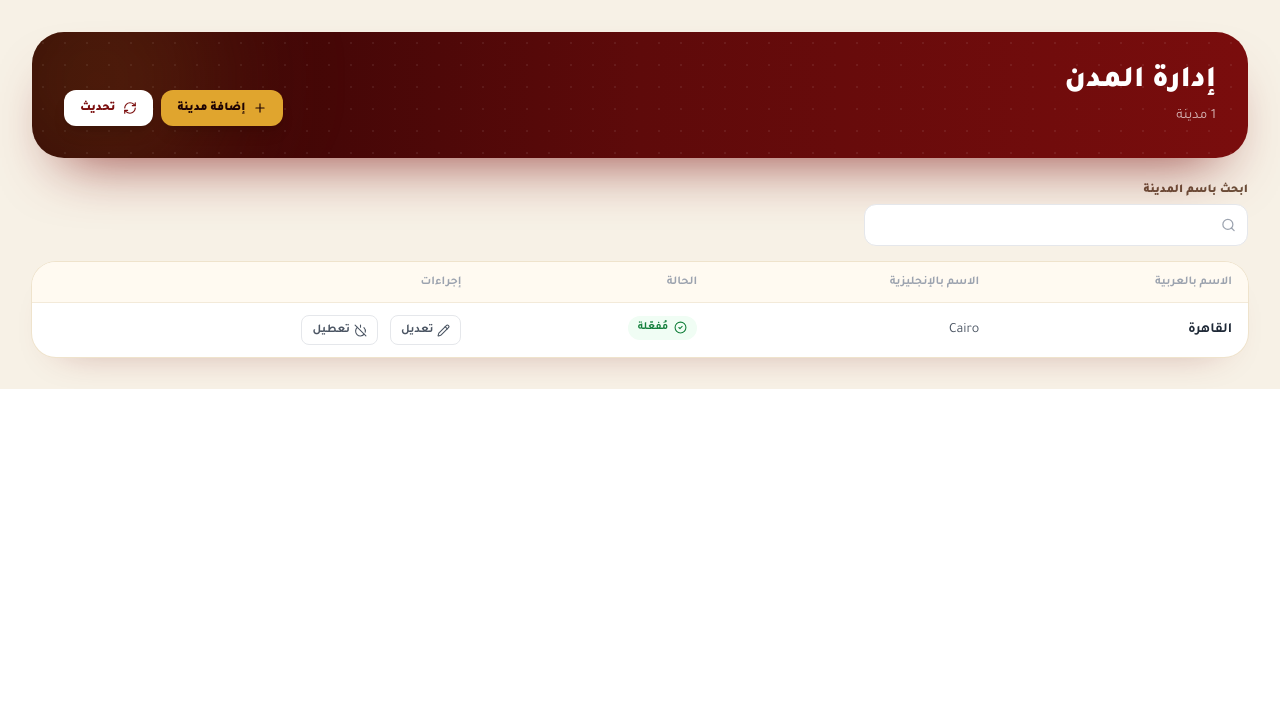
Test: US4 — activate / deactivate a city › AC3: cancelling the confirmation sends no PATCH
The image size is (1280, 720).
Expected: the text "القاهرة" is shown, 995,302 -> 1248,357
Click the button "تعطيل".
click(340, 330)  # box 301,315 -> 378,345
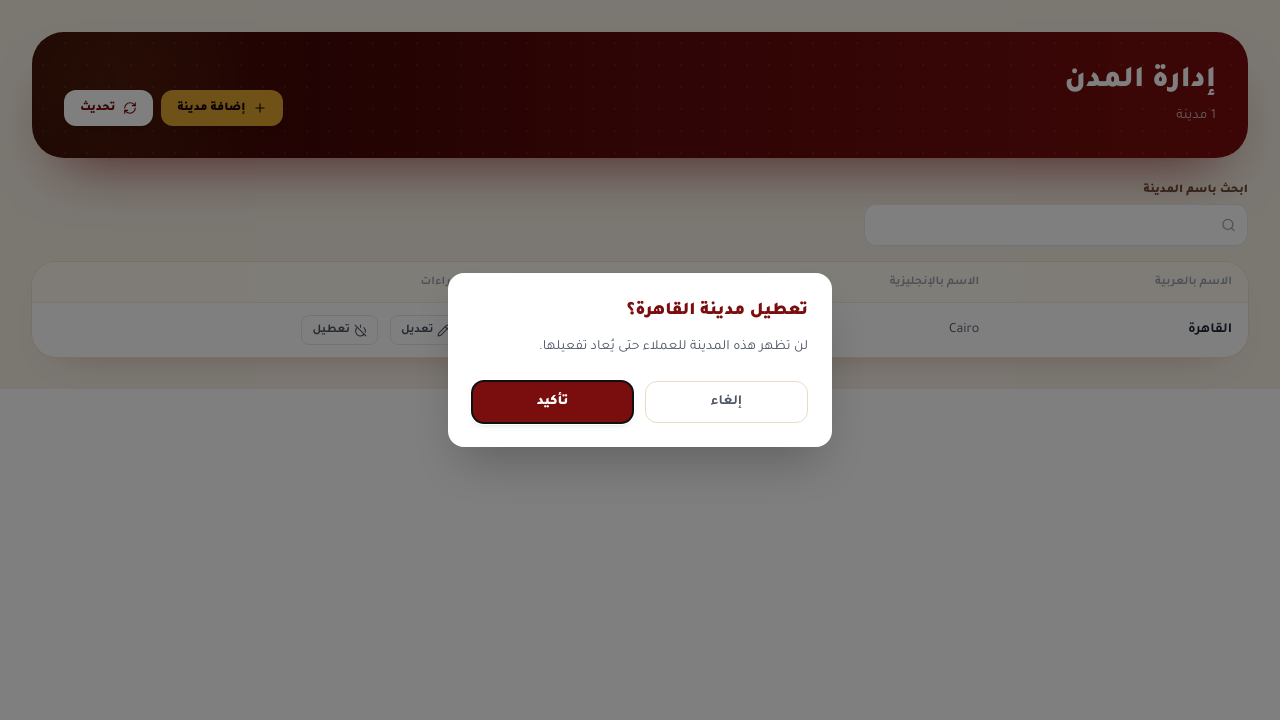
Click the button "إلغاء".
click(726, 402)  # box 645,381 -> 808,423
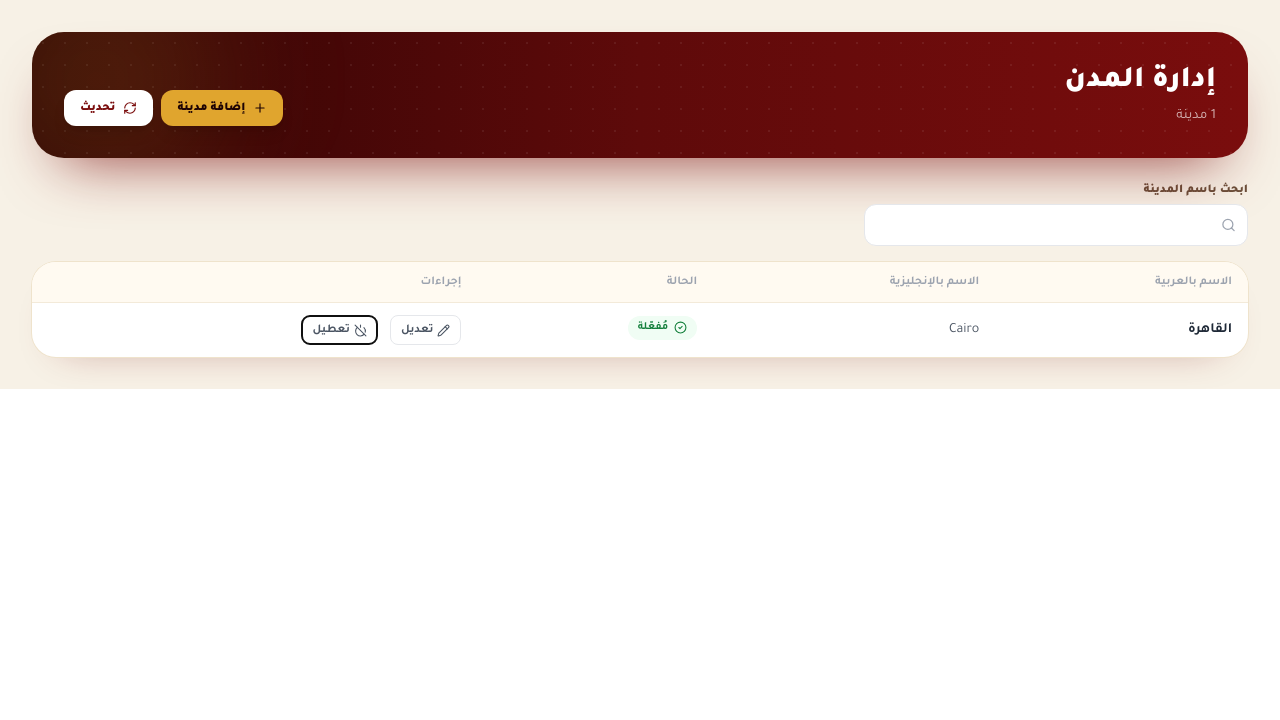
Result: the dialog is gone
